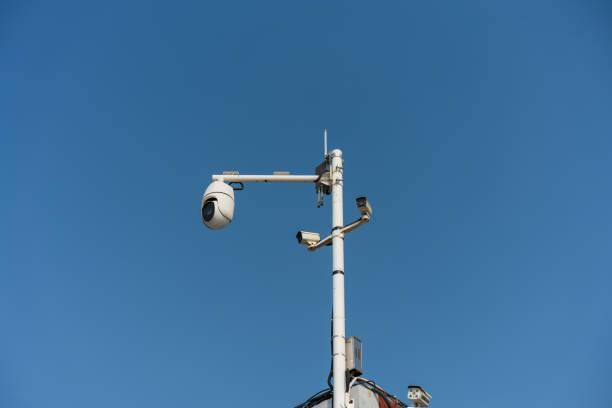camera: (196, 172, 240, 236), (348, 189, 381, 227), (290, 223, 322, 257), (402, 379, 434, 407)
